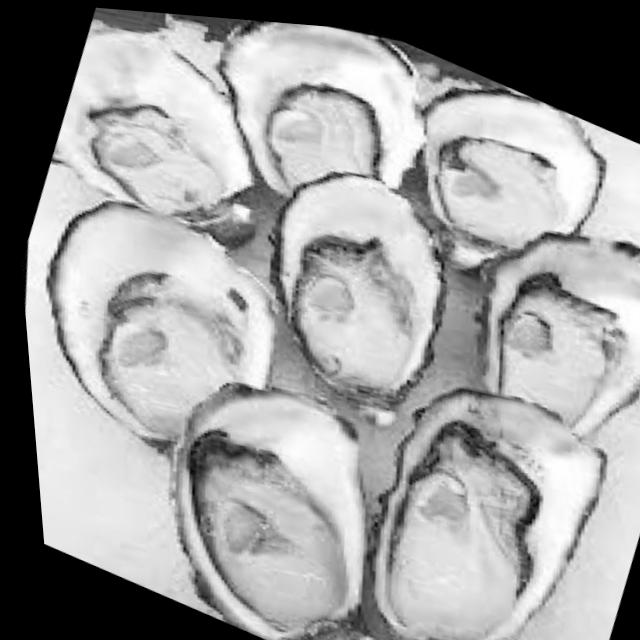Oyster-Open: (370, 388, 608, 640), (48, 201, 277, 456), (171, 383, 369, 640), (270, 173, 448, 428), (79, 35, 284, 254), (219, 22, 428, 196), (420, 88, 599, 272), (497, 238, 640, 437)
